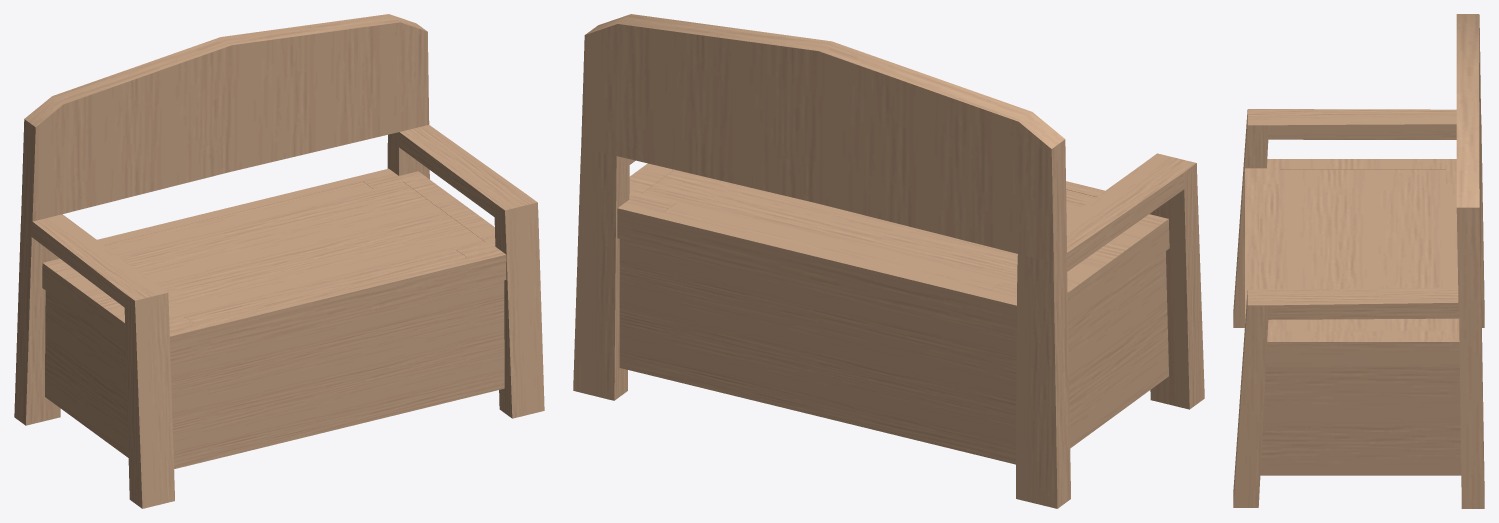
File: Deacon_Bench_B.FBX
The picture shows the model from 3 angles, left to right: view 1: azimuth 30°, elevation 25°; view 2: azimuth 150°, elevation 25°; view 3: azimuth 270°, elevation 25°; orthographic projection. The views are drawn at different scales.
Parts seen in each view (by area): view 1: Deacon_Bench, Lid; view 2: Deacon_Bench, Lid; view 3: Deacon_Bench, Lid.
Part boxes in pixels (bbox=[...]): Deacon_Bench: bbox=[14, 14, 544, 508]; Lid: bbox=[104, 182, 485, 323]; Deacon_Bench: bbox=[573, 14, 1204, 508]; Lid: bbox=[641, 169, 1096, 290]; Deacon_Bench: bbox=[1233, 14, 1484, 508]; Lid: bbox=[1259, 169, 1458, 331].
Bounding box in the file's own units: 248 × 194 × 133.
